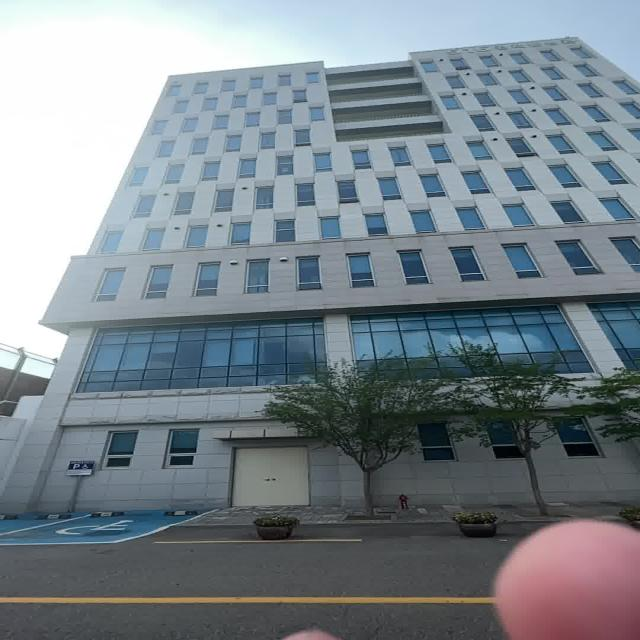building: (78, 33, 640, 350)
